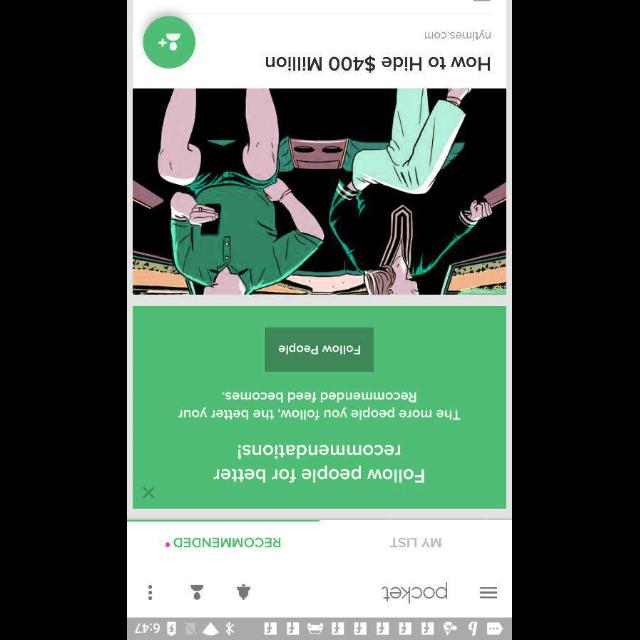button: (142, 15, 195, 69)
icon: (237, 582, 251, 600), (191, 584, 205, 600), (480, 586, 498, 598), (142, 486, 156, 498), (149, 584, 153, 600)
image: (134, 89, 506, 295)
text: (178, 390, 462, 420), (213, 443, 424, 483), (267, 55, 491, 73), (382, 581, 448, 603), (175, 537, 282, 547), (424, 29, 492, 41), (390, 537, 442, 547)
textbutton: (266, 327, 374, 371)
uppertaskbar: (128, 617, 512, 639)
